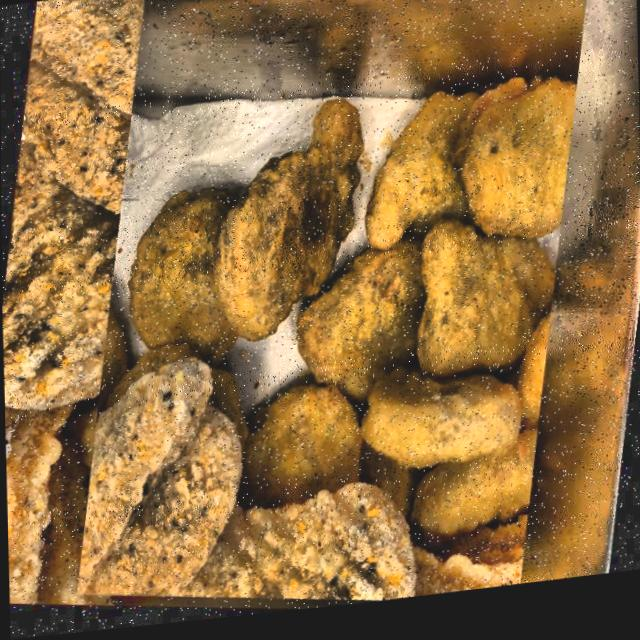Food: (28, 0, 633, 629)
